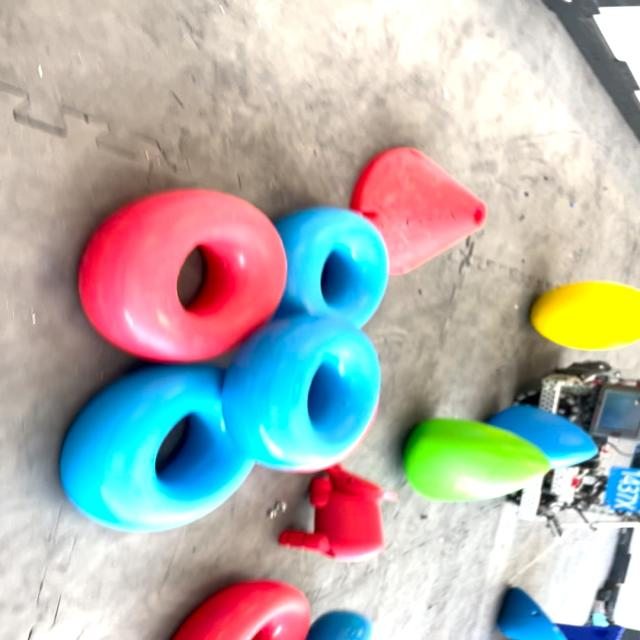Blue-Ring: (60, 365, 253, 532), (222, 315, 380, 472), (276, 208, 389, 328)
Red-Ring: (78, 189, 287, 362), (173, 580, 311, 640)
